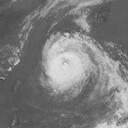cyclone: (40, 30, 112, 99)
